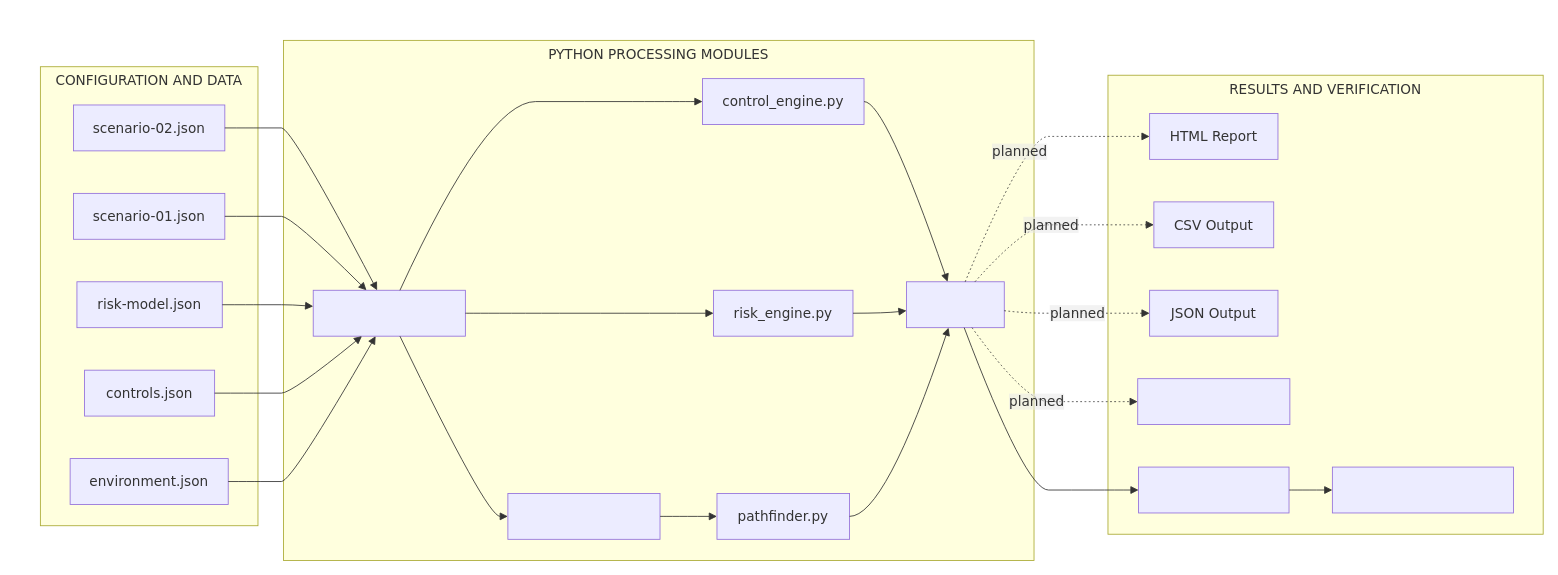
This 1558x575 diagram has some shape labels left out. Each missing label, with the centre of its shape:
"Automated Tests" goes at point (1213, 401).
"Evidence Screenshots" goes at point (1422, 489).
"graph_engine.py" goes at point (583, 516).
"model_loader.py" goes at point (388, 312).
"sitas.py" goes at point (955, 304).
"Terminal Output" goes at point (1213, 489).
